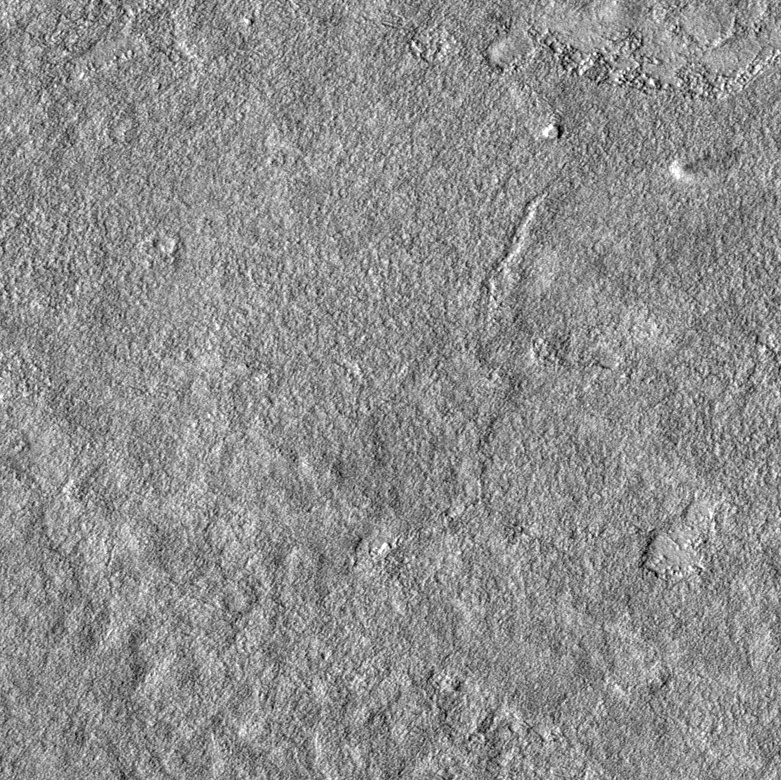dust_devil: (668, 145, 744, 184)
